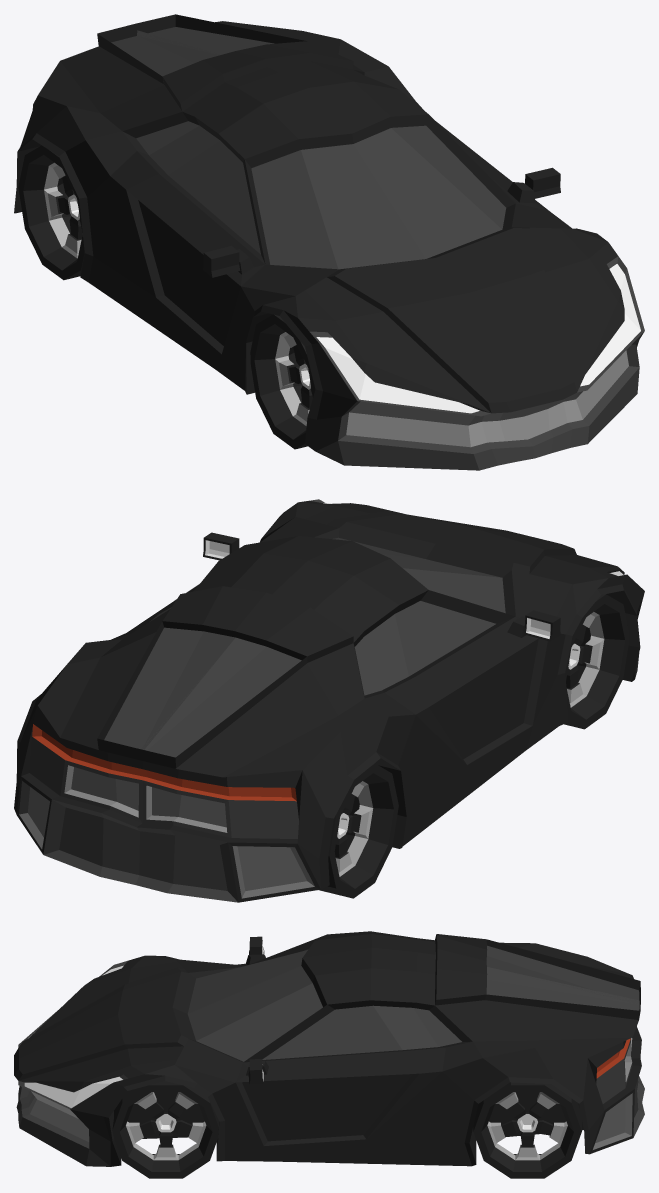
Rendered from lotustheory1.fbx.
3 renders of one model, top to bottom at view 1: azimuth 30°, elevation 25°; view 2: azimuth 150°, elevation 25°; view 3: azimuth 270°, elevation 25°, orthographic. The views are drawn at different scales.
Visible parts, largest first — view 1: BlackBody, BackRight, FrontRight; view 2: BlackBody, BackRight, FrontRight; view 3: BlackBody, BackLeft, FrontLeft.
Part boxes in pixels (<box>): BlackBody: <box>14,14,644,470</box>; BackRight: <box>18,145,84,280</box>; FrontRight: <box>250,314,315,449</box>; BlackBody: <box>14,499,644,902</box>; BackRight: <box>319,763,398,898</box>; FrontRight: <box>564,594,629,729</box>; BlackBody: <box>14,931,644,1166</box>; BackLeft: <box>473,1082,581,1178</box>; FrontLeft: <box>112,1081,218,1178</box>.
Bounding box in the file's own units: 2.08 × 4.16 × 1.25.
